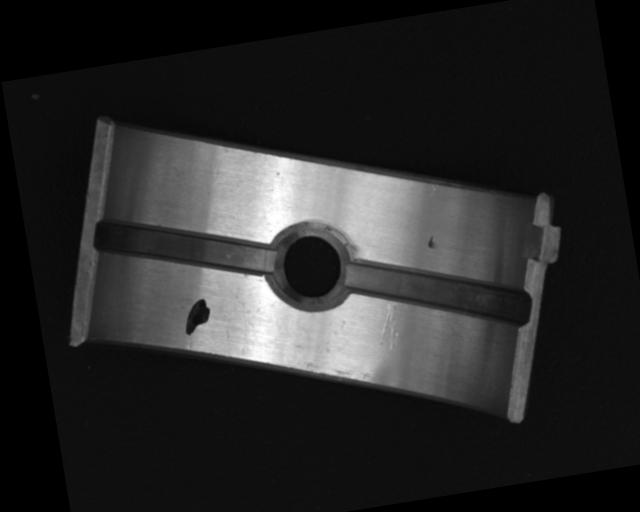blot: (179, 297, 213, 335)
bruise: (425, 234, 437, 249)
gap: (343, 234, 531, 351), (91, 193, 275, 295)
hole: (271, 216, 354, 312)
nick: (372, 303, 402, 354)
